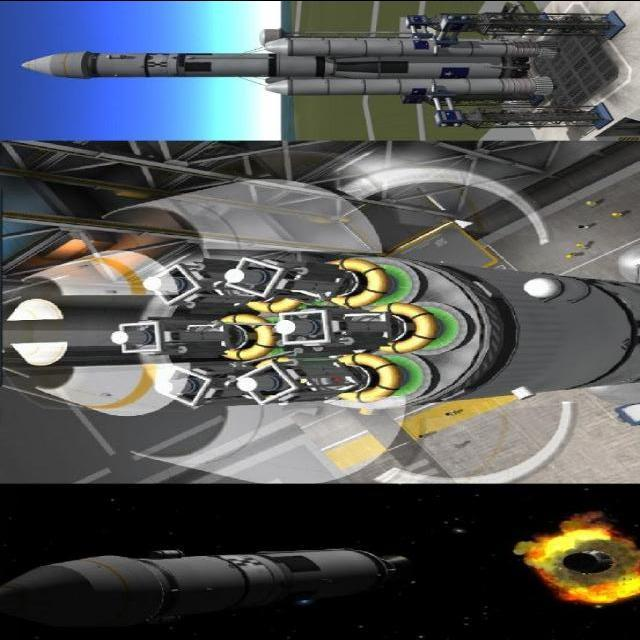missile: (7, 549, 406, 628), (19, 46, 554, 80), (261, 33, 551, 56), (255, 74, 557, 95)
